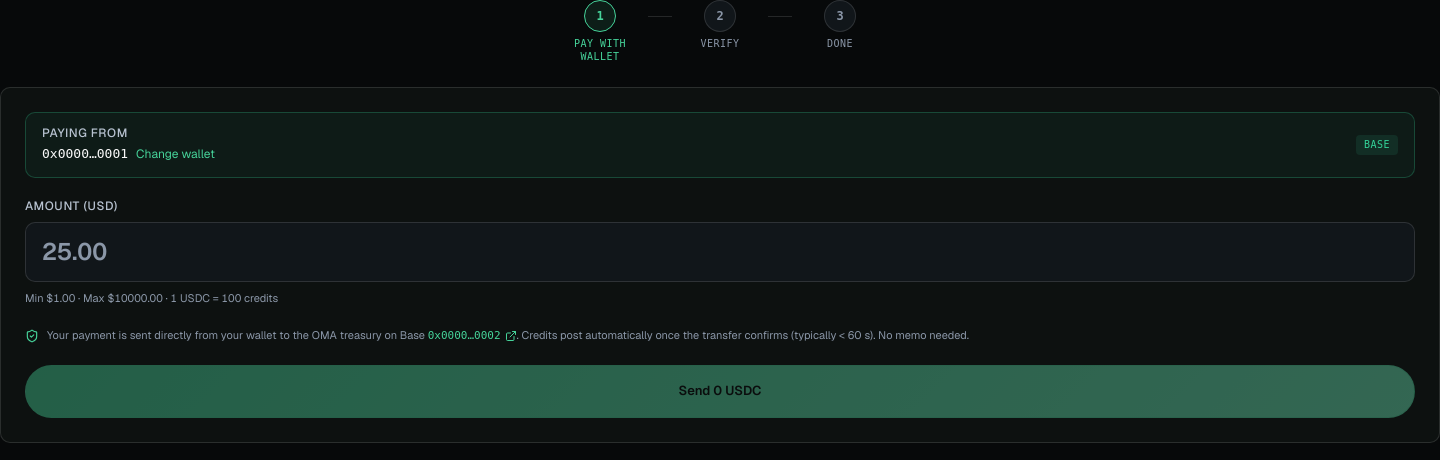
Test case: USDC broadcast recovery › retains the broadcast transaction when its proof signature is rejected
Check: the button "Send 0 USDC" is disabled, box [25,365,1415,418]
Type "10" into the field labelled "Amount (USD)" at (720, 252), box [25,222,1415,282]
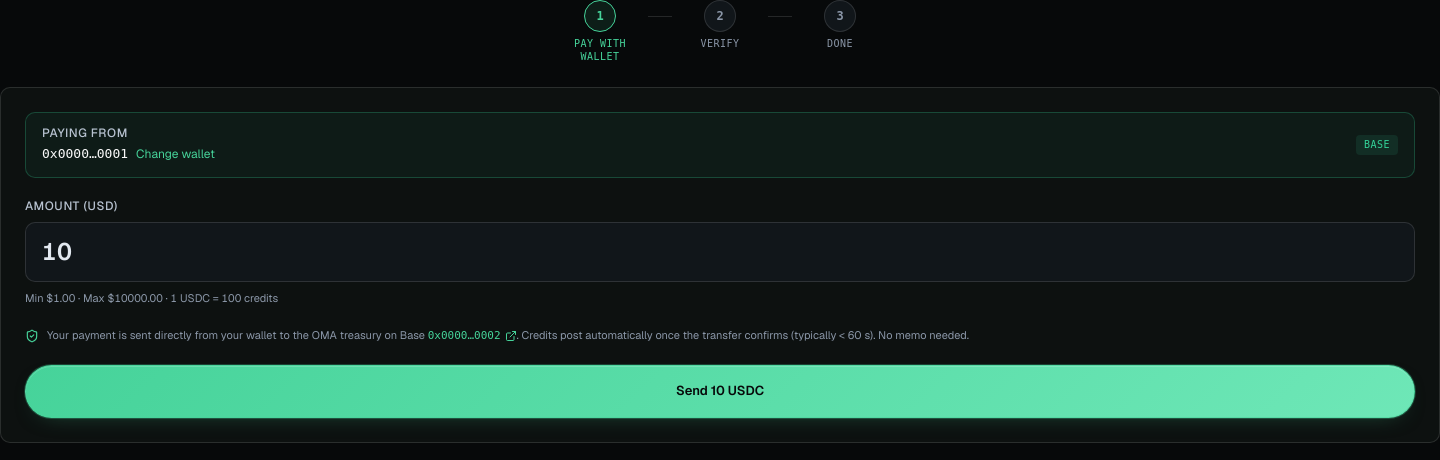
Check: the button "Send 10 USDC" is enabled
Click the button "Send 10 USDC" at (720, 391), box [25,365,1415,418]
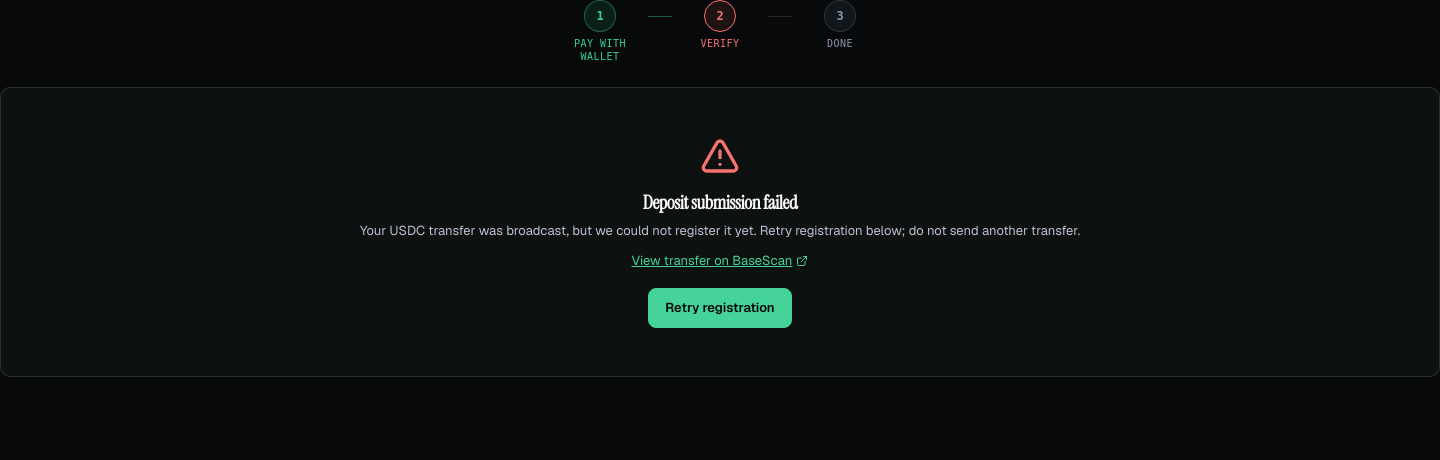
Check: the button "Retry registration" is enabled, box [648,288,792,328]
